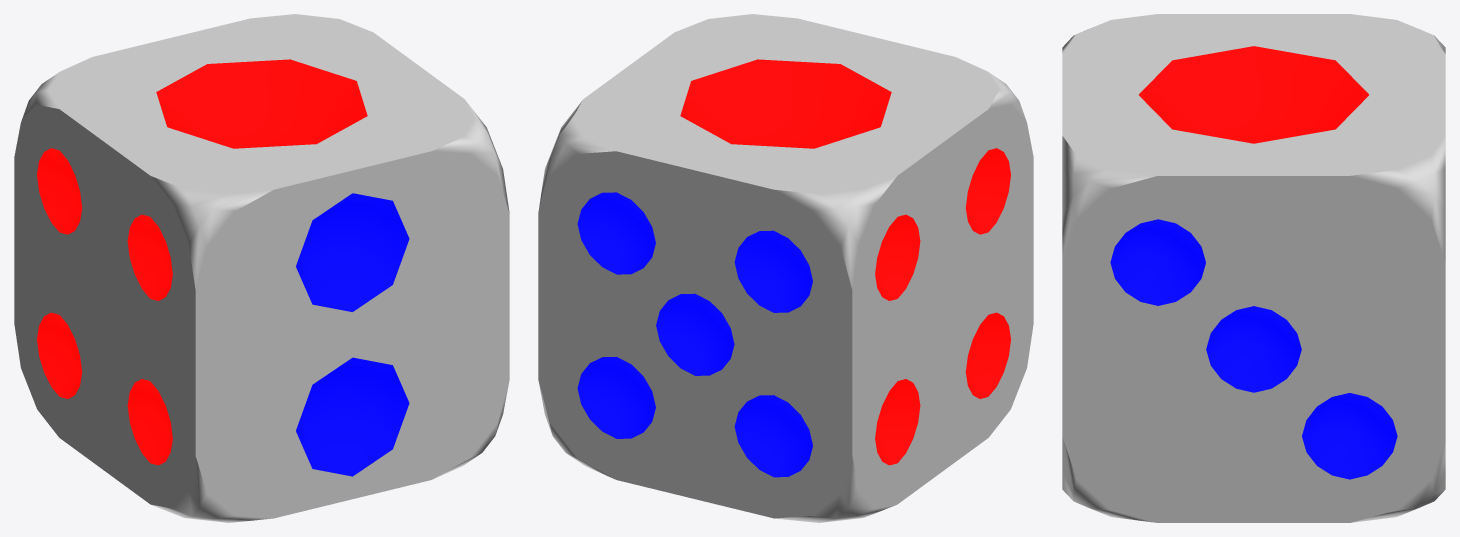
File: WahahaDice.fbx
The picture shows the model from 3 angles, left to right: view 1: azimuth 30°, elevation 25°; view 2: azimuth 150°, elevation 25°; view 3: azimuth 270°, elevation 25°; orthographic projection. The views are drawn at different scales.
Parts seen in each view (by area): view 1: WahahaDice; view 2: WahahaDice; view 3: WahahaDice.
Part boxes in pixels (x1,y1,x2,y2): WahahaDice: (14, 14, 509, 522); WahahaDice: (538, 14, 1033, 522); WahahaDice: (1062, 14, 1445, 522).
Bounding box in the file's own units: 200 × 200 × 200.
